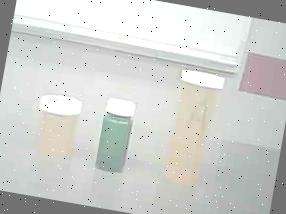Bottle A: (151, 61, 233, 199)
Bottle B: (30, 89, 90, 162)
Bottle C: (88, 92, 150, 180)
